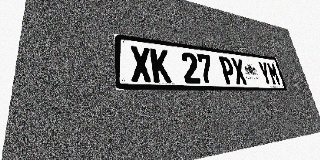2: (181, 52, 201, 84)
7: (196, 54, 215, 84)
K: (150, 48, 172, 83)
M: (266, 62, 282, 86)
P: (218, 56, 237, 84)
X: (130, 45, 152, 82), (230, 58, 248, 85)
Y: (257, 61, 273, 85)
